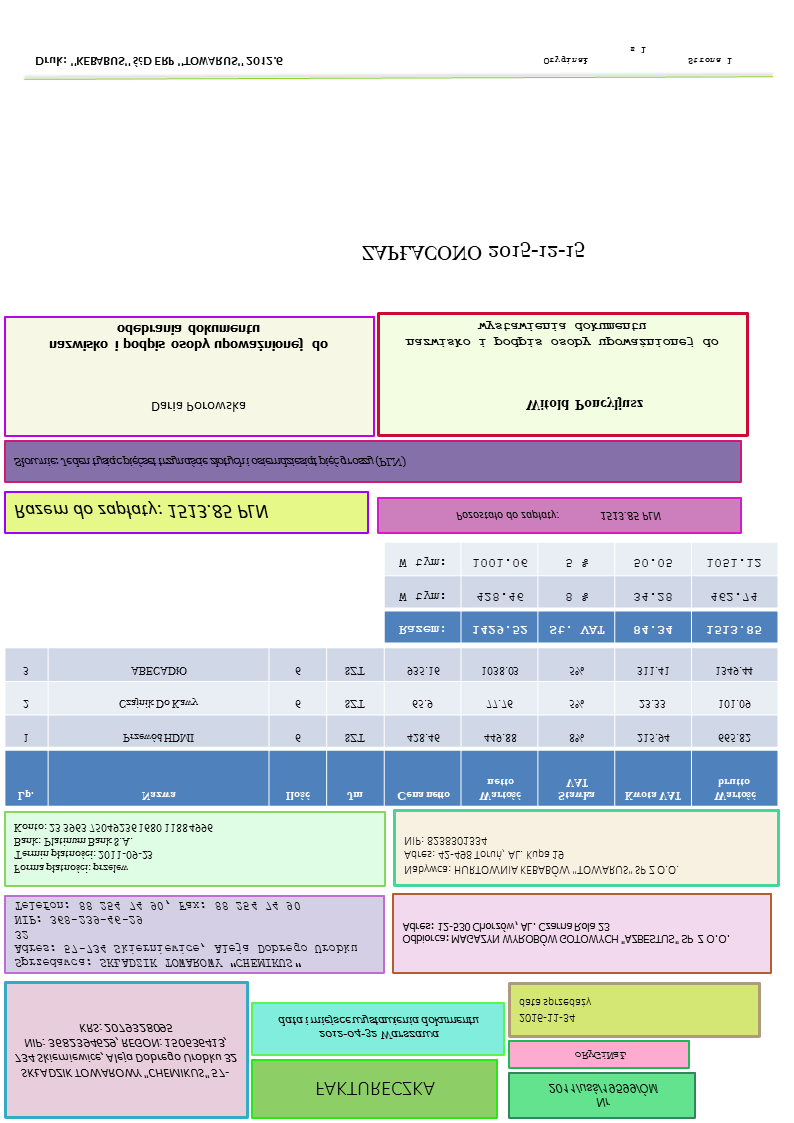Table: (3, 646, 779, 808), (381, 542, 780, 644)
TextBox: (11, 899, 361, 973), (12, 1019, 239, 1083), (9, 821, 216, 879), (401, 835, 680, 878), (401, 319, 719, 351), (400, 919, 732, 947), (44, 321, 331, 353), (10, 451, 407, 474), (10, 502, 270, 526), (275, 1013, 483, 1042), (357, 238, 587, 264), (31, 52, 288, 73), (541, 44, 737, 67), (544, 1080, 660, 1112), (451, 509, 663, 525), (311, 1077, 439, 1100), (522, 395, 648, 415), (516, 995, 593, 1026), (147, 398, 250, 419), (571, 1049, 630, 1064)
